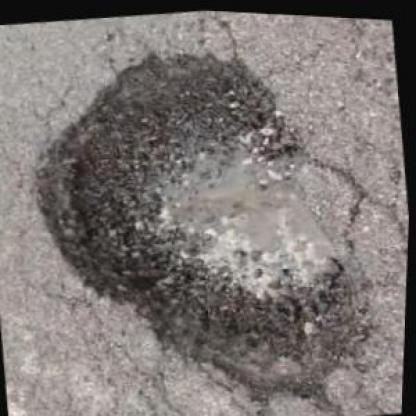pothole: (5, 15, 400, 415)
